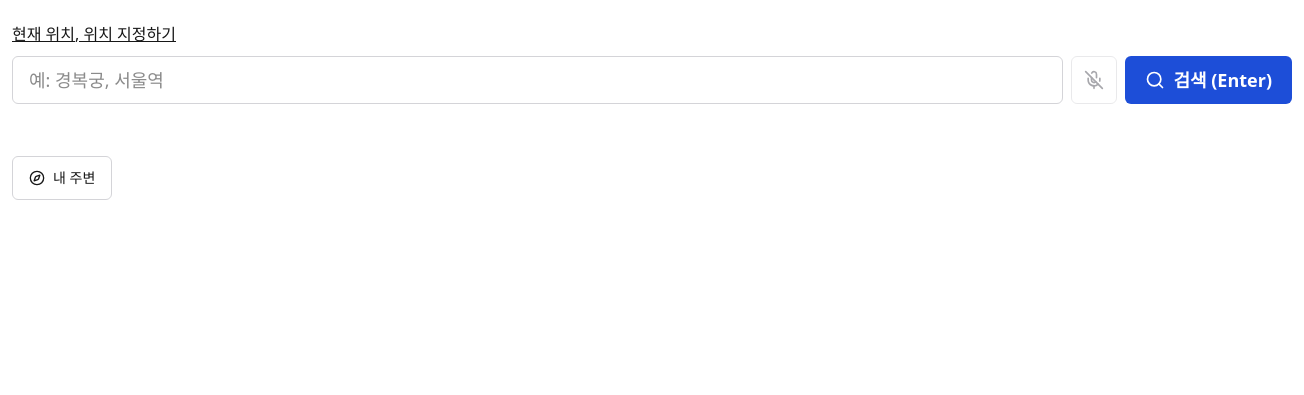
Test case: PlaceSearch — 리뷰순 토글 › 네이버 키가 없으면 토글이 없다
In the search field: (538, 80) [12,56,1064,104], type "길동 맛집"
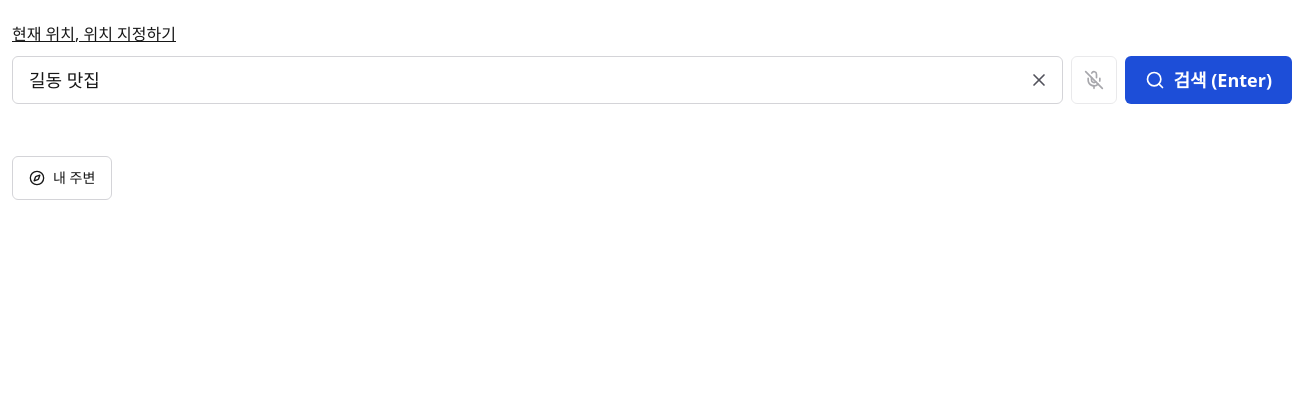
Submit the form, box [12,56,1292,104]
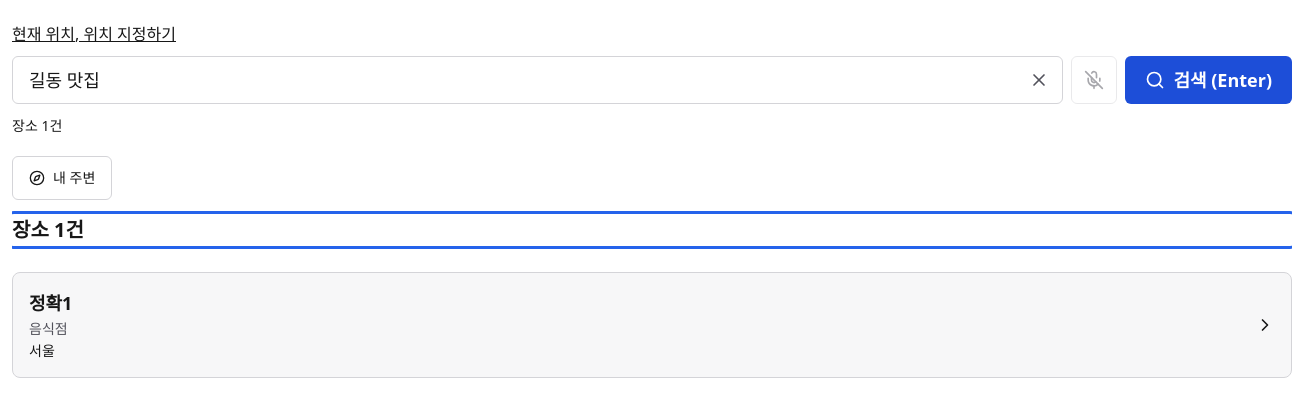
Now the text "정확1" is shown, box [29,289,72,317]
